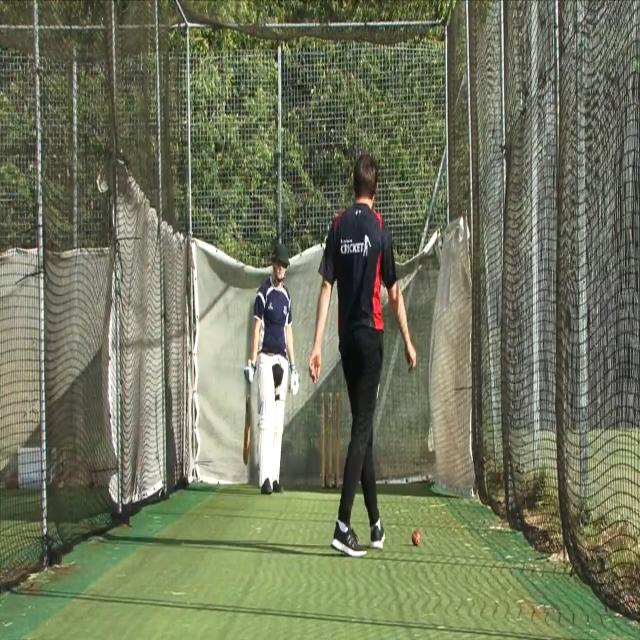batsman: (241, 241, 301, 497)
